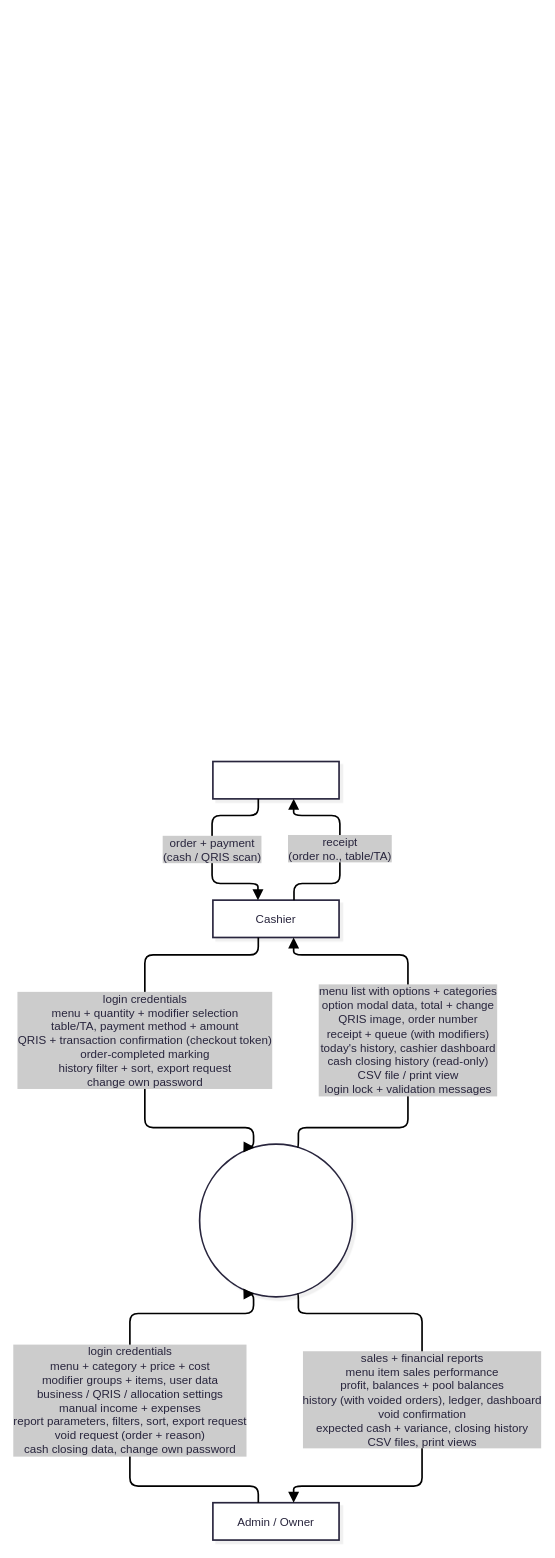
The diagram is 555 pixels wide and 1558 high, and some of its shapes have lost their labels. The shapes that lost their labels are listed below. From the top down, each one's centre as x and y in pixels, then its label:
At point 277,781: "Customer".
At point 277,1222: "0 Kedai Paradise POS and Finance System".
